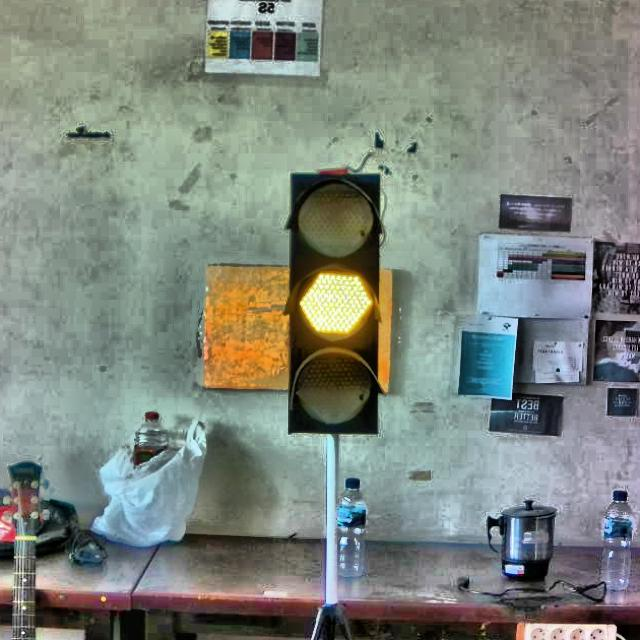yellow: (287, 172, 381, 430)
